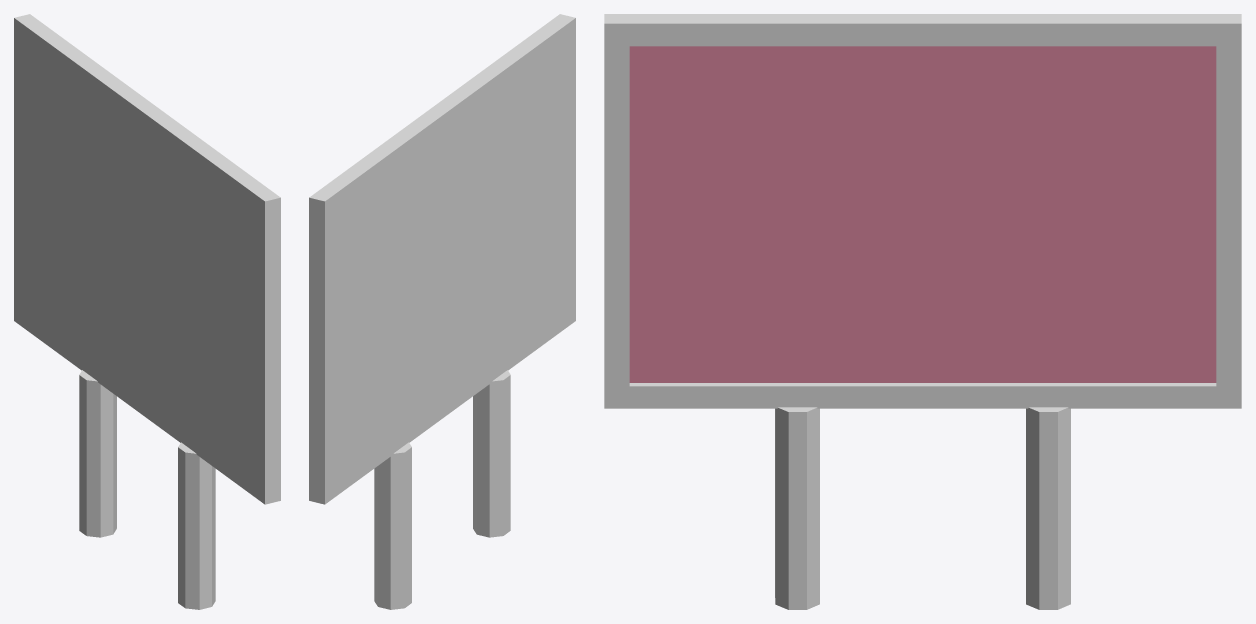
Rendered from panneau.fbx.
3 renders of one model, left to right at view 1: azimuth 30°, elevation 25°; view 2: azimuth 150°, elevation 25°; view 3: azimuth 270°, elevation 25°, orthographic. The views are drawn at different scales.
Visible parts, largest first — view 1: Cube; view 2: Cube; view 3: Cube.
Part boxes in pixels (x1=…): Cube: x1=14, y1=14, x2=280, y2=609; Cube: x1=309, y1=14, x2=575, y2=609; Cube: x1=604, y1=14, x2=1241, y2=609.
Size of the model in its own units: 42.24 by 604 by 600.
